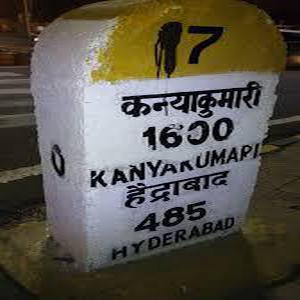kmstone: (26, 3, 291, 270)
